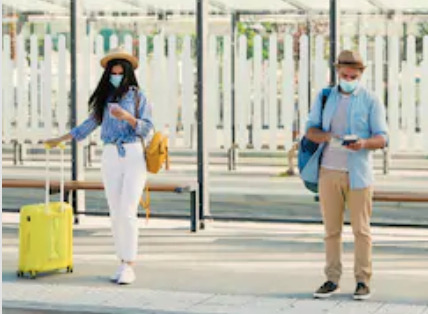Caution: (90, 50, 389, 300)
